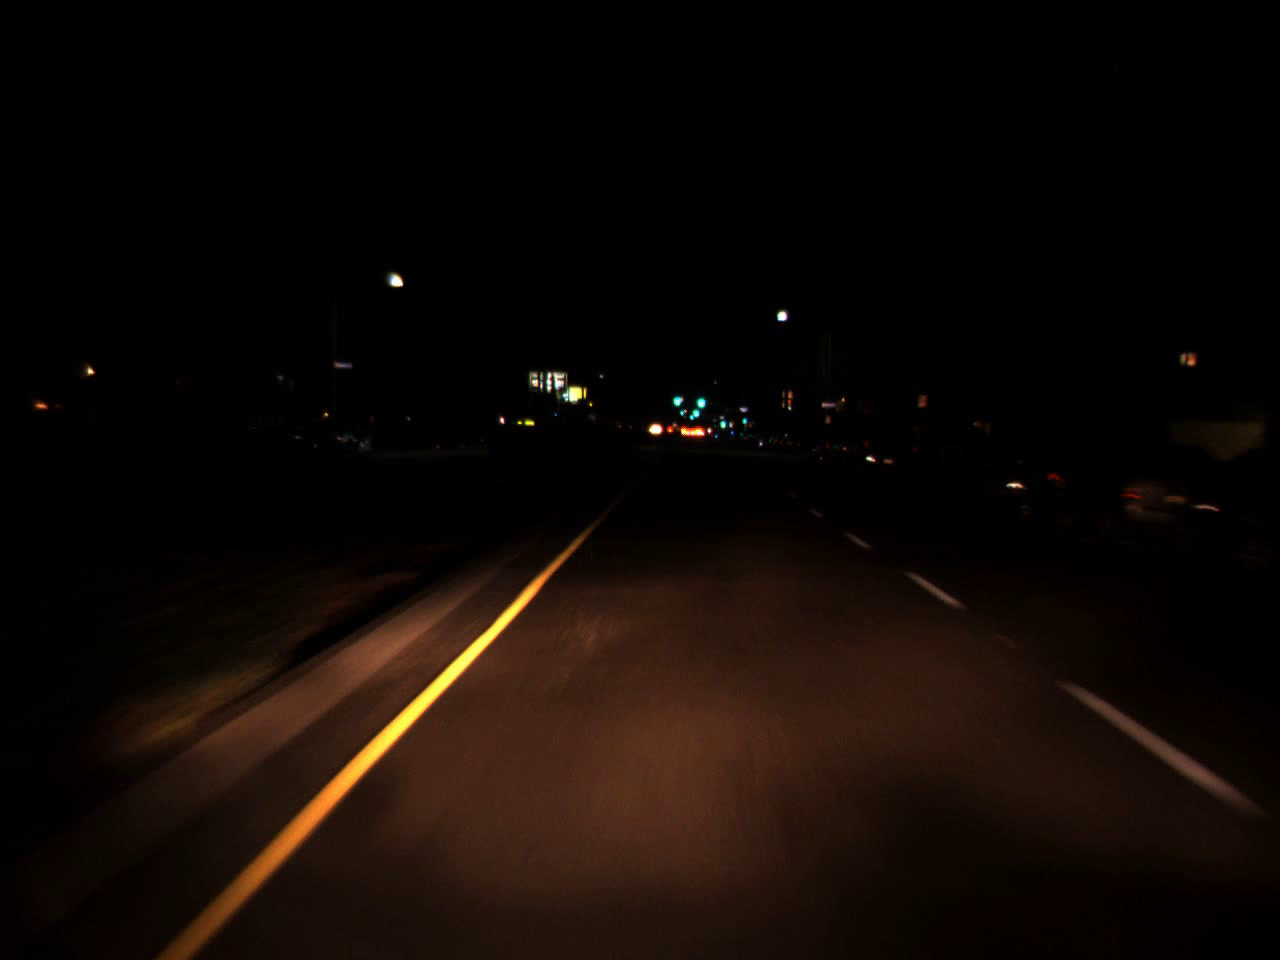go: (694, 389, 706, 410), (690, 399, 700, 419), (671, 390, 681, 405), (676, 402, 685, 417), (719, 416, 726, 428)
